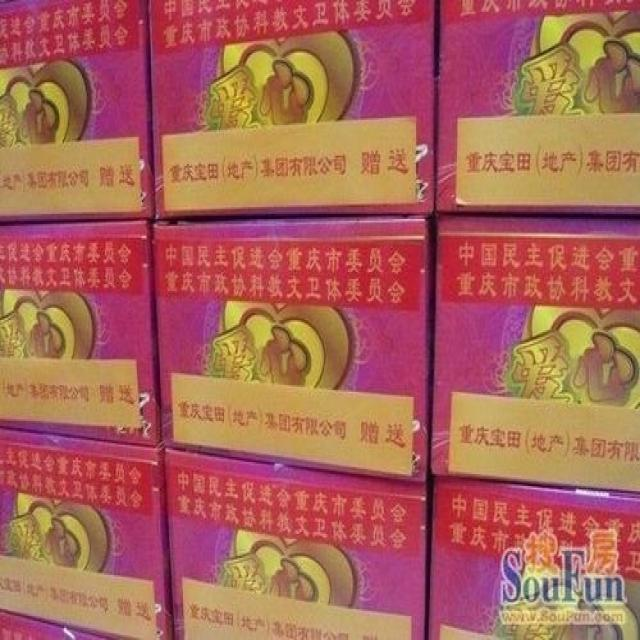box: (152, 219, 434, 484), (148, 0, 438, 221), (425, 219, 639, 496), (160, 441, 426, 640), (434, 0, 639, 221), (0, 424, 170, 640), (0, 217, 159, 443), (0, 2, 154, 224), (425, 486, 639, 638), (1, 613, 106, 640)
